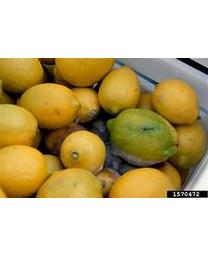lemon: (105, 109, 182, 167), (19, 86, 80, 129), (1, 144, 44, 198), (151, 79, 199, 122), (37, 168, 104, 198), (99, 66, 140, 114), (61, 130, 106, 170), (0, 103, 38, 147)
